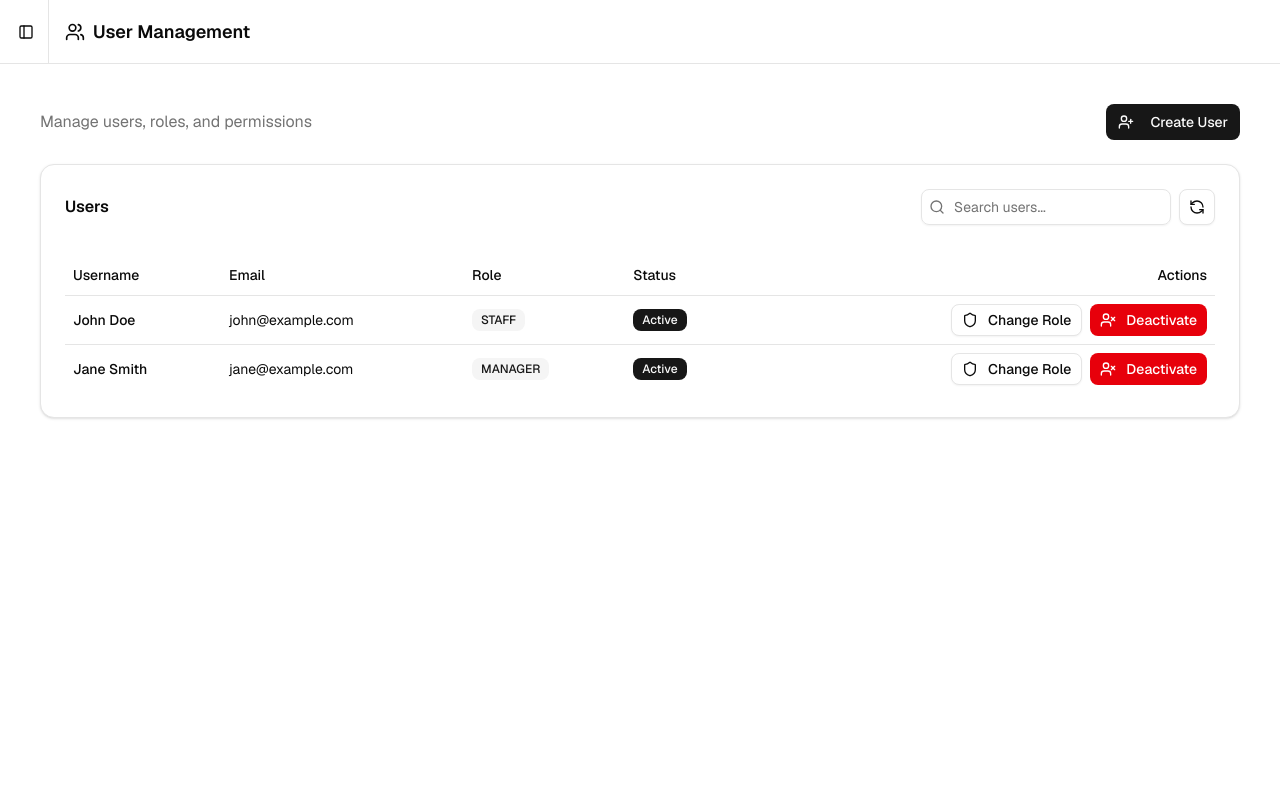
Scenario: UserManagementPage › Create User Dialog › opens create user dialog when button is clicked
Click the button "Create User": (1173, 122) [1106,104,1240,140]
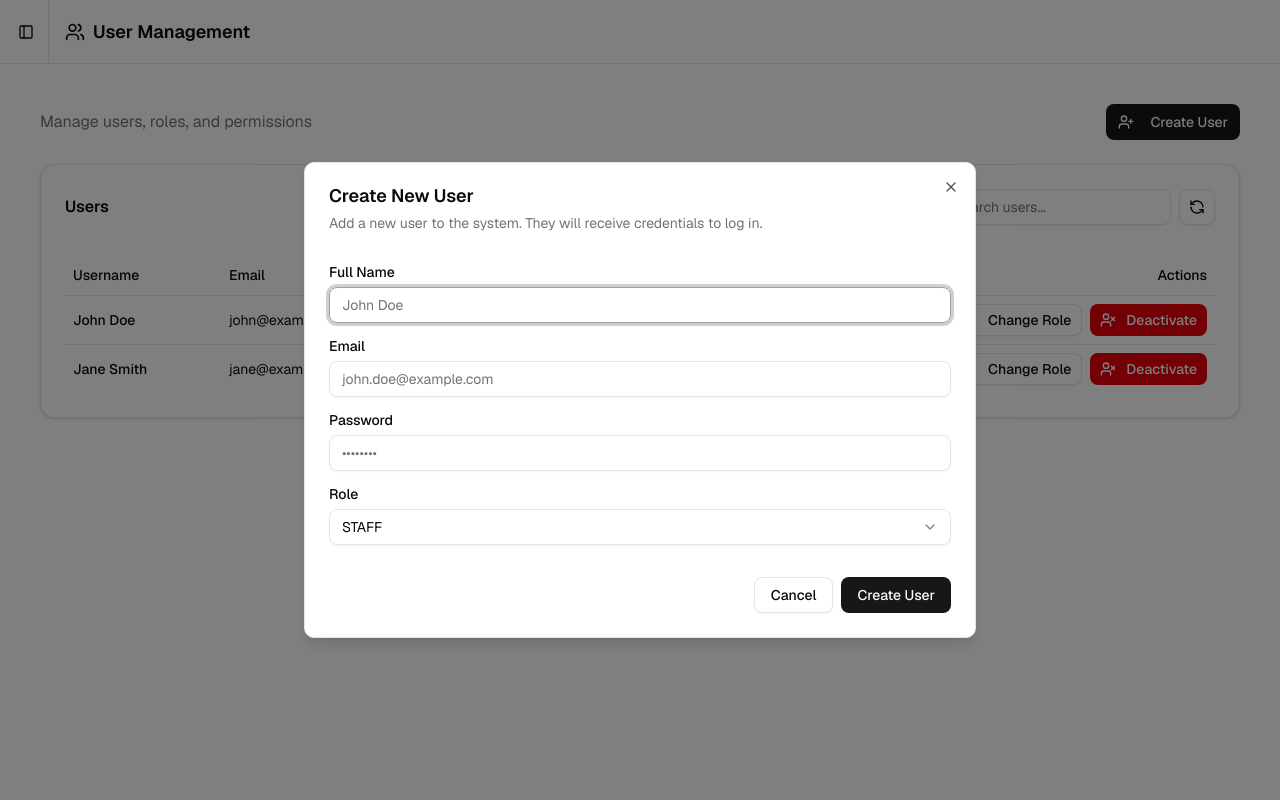
Expected: the heading "Create New User" is shown, [329,184,474,207]
